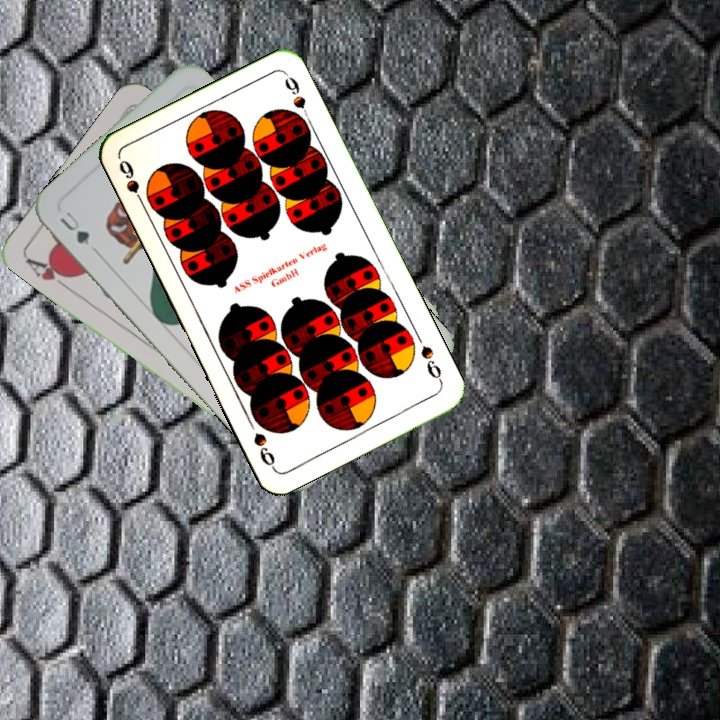GU: (55, 207, 100, 255)
HA: (21, 253, 76, 293)
S9: (114, 155, 149, 211), (416, 341, 446, 387)
